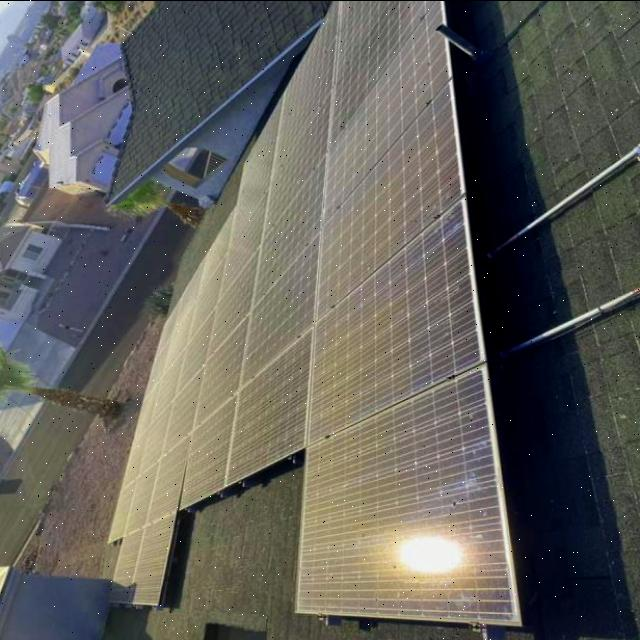Anomaly Solar Panel: (109, 0, 519, 625)
Surface Contaminant: (297, 0, 517, 623), (225, 0, 336, 482), (107, 207, 232, 605), (177, 94, 281, 507)
